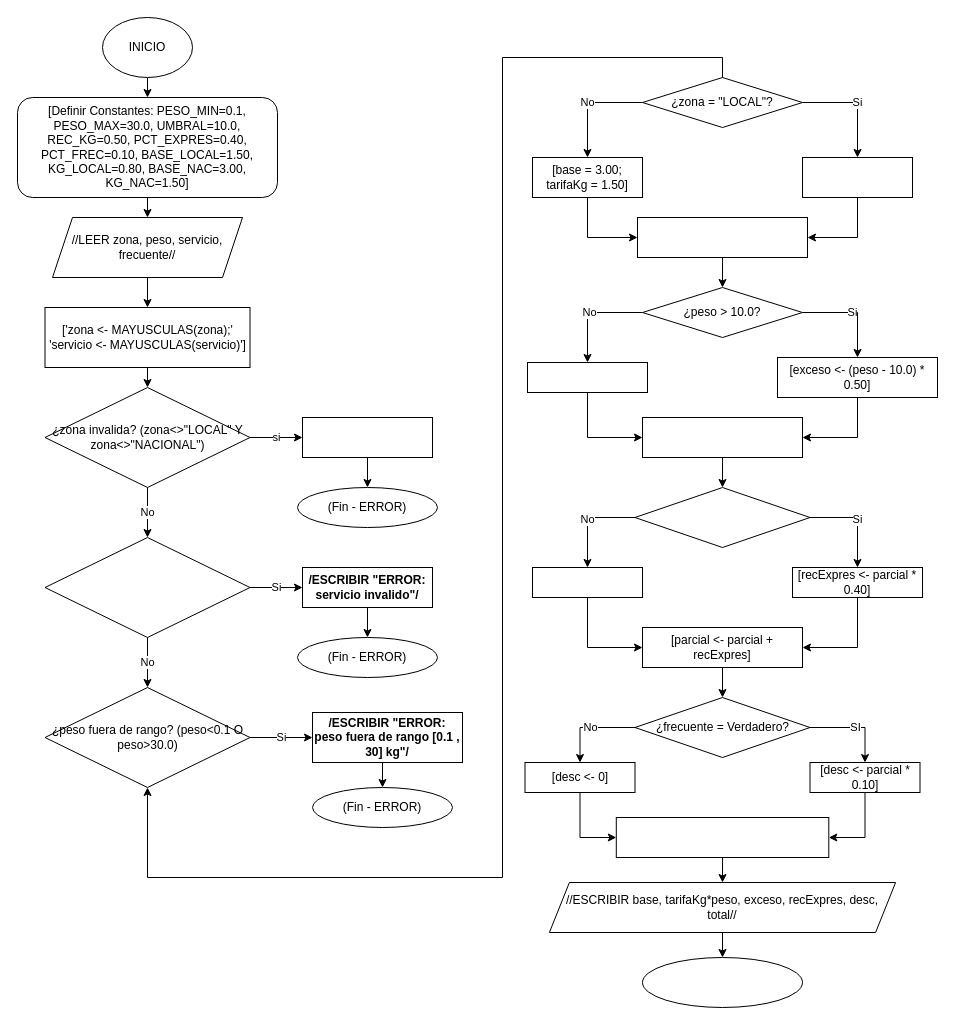
Image size: 955x1025. Some labels were removed from this diagram. The centre of each missing label's shape, as x and y in pixels:
/ESCRIBIR "ERROR: zona invalida"/: [367,437]
[base = 1.50; tarifaKg = 0.80]: [857,177]
[exceso <- 0]: [587,377]
[parcial <- subtotal + exceso]: [722,437]
[recExpres <- 0]: [587,582]
[subtotal <- base + tarifaKg * peso]: [722,237]
[total <- REDONDEAR(parcial - desc, 2)]: [722,837]
{Fin: EnvioPaquetes}: [722,982]
¿servicio = "EXPRES"?: [722,517]
¿servicio invalido? (servicio<>"NORMAL" Y servicio<>"EXPRES"): [147,587]
